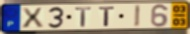3: (47, 6, 66, 30)
6: (150, 3, 170, 28)
I: (133, 4, 142, 28)
T: (98, 6, 117, 28), (74, 6, 93, 28)
X: (20, 7, 45, 29)
